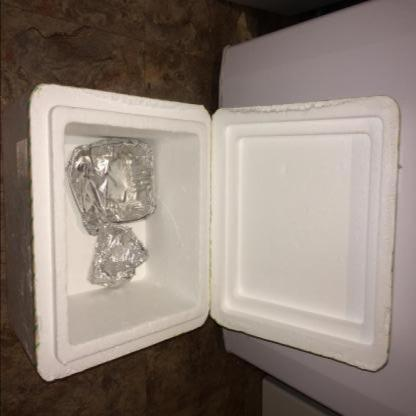Aluminium foil: (65, 137, 156, 240), (87, 224, 149, 288)
Styrofoam piece: (2, 83, 400, 383)
